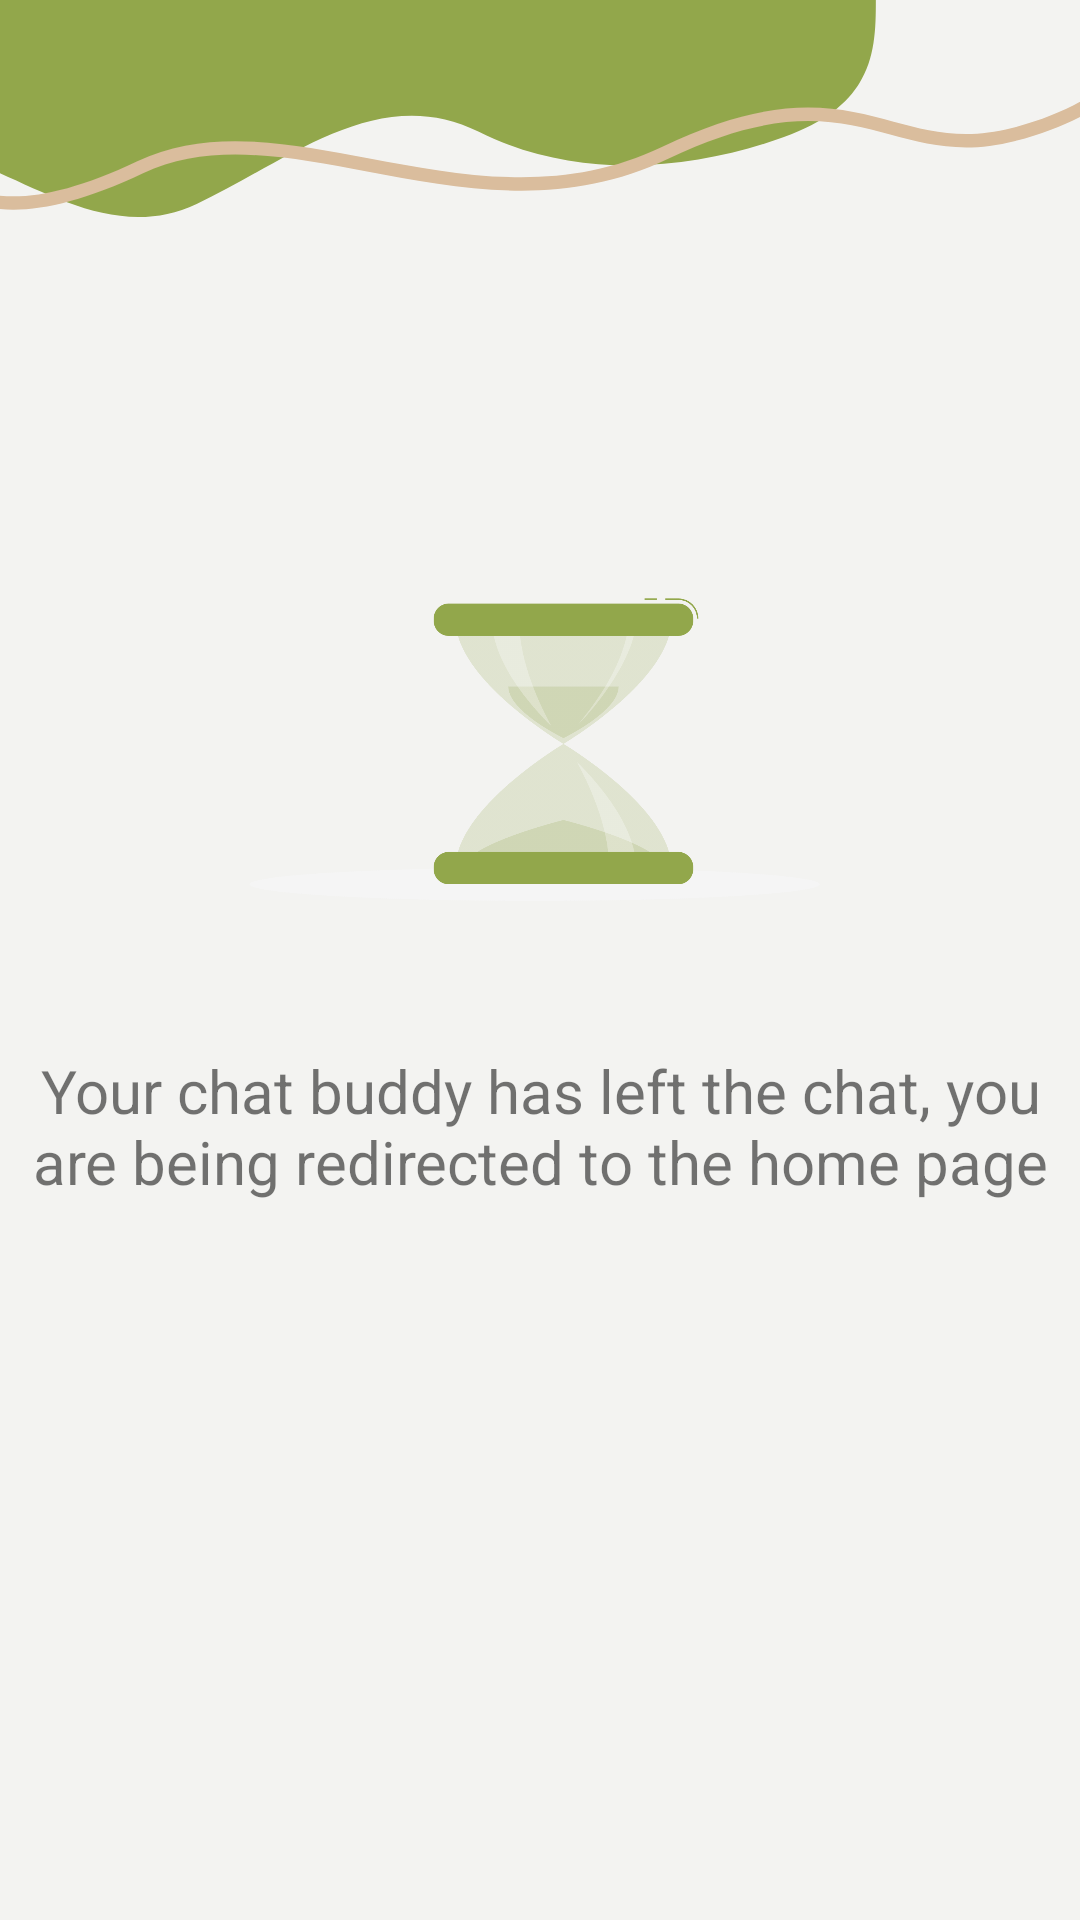

Named icons in this screenshot (1080 x 1920) and their bounding boxes, (x1, y1, x2, y2):
delay: (434, 598, 699, 884)
